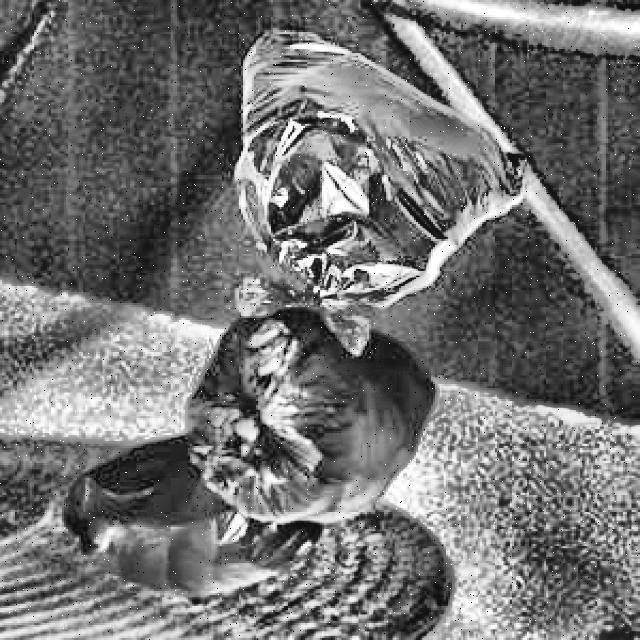Trashbag: (245, 39, 489, 314), (175, 321, 443, 527)
